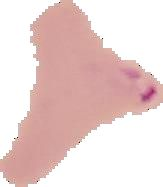parasitized: (96, 64, 158, 106)
